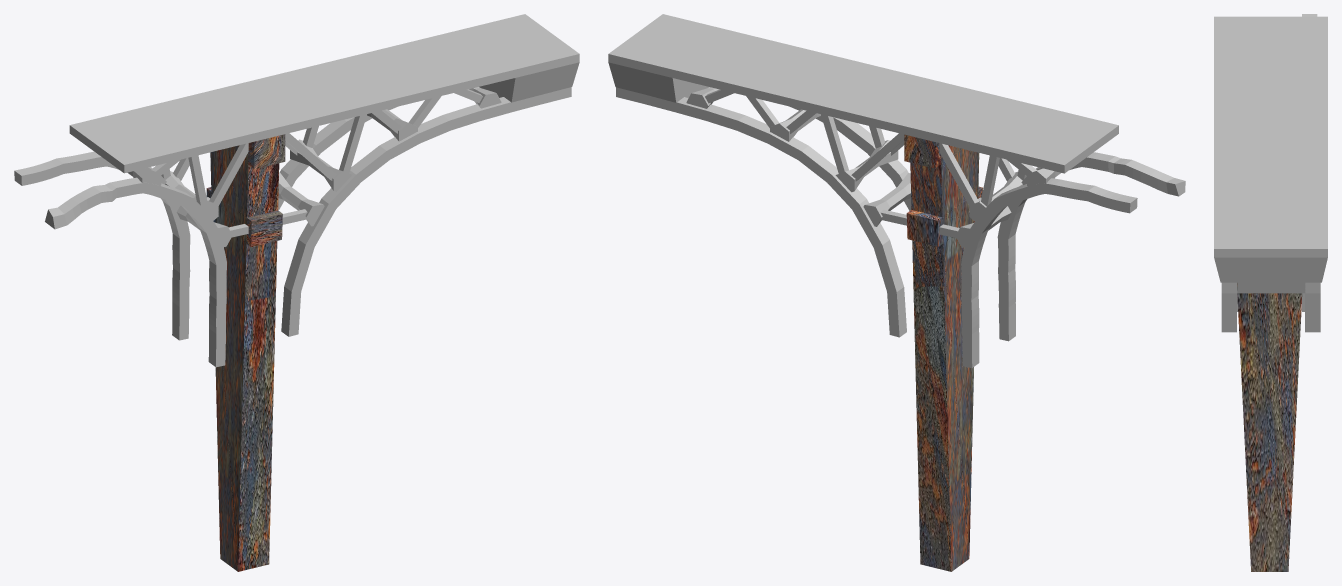
The model's file is 1 Models crash111.fbx.
The picture shows the model from 3 angles, left to right: view 1: azimuth 30°, elevation 25°; view 2: azimuth 150°, elevation 25°; view 3: azimuth 270°, elevation 25°; orthographic projection. The views are drawn at different scales.
Parts seen in each view (by area): view 1: Cylinder.004; view 2: Cylinder.004; view 3: Cylinder.004.
Boxes of the visible parts, x1,y1,x2,y2 form: Cylinder.004: (14, 14, 579, 571); Cylinder.004: (608, 14, 1185, 571); Cylinder.004: (1214, 14, 1327, 571).
Bounding box in the file's own units: 7415 × 6100 × 1333.
